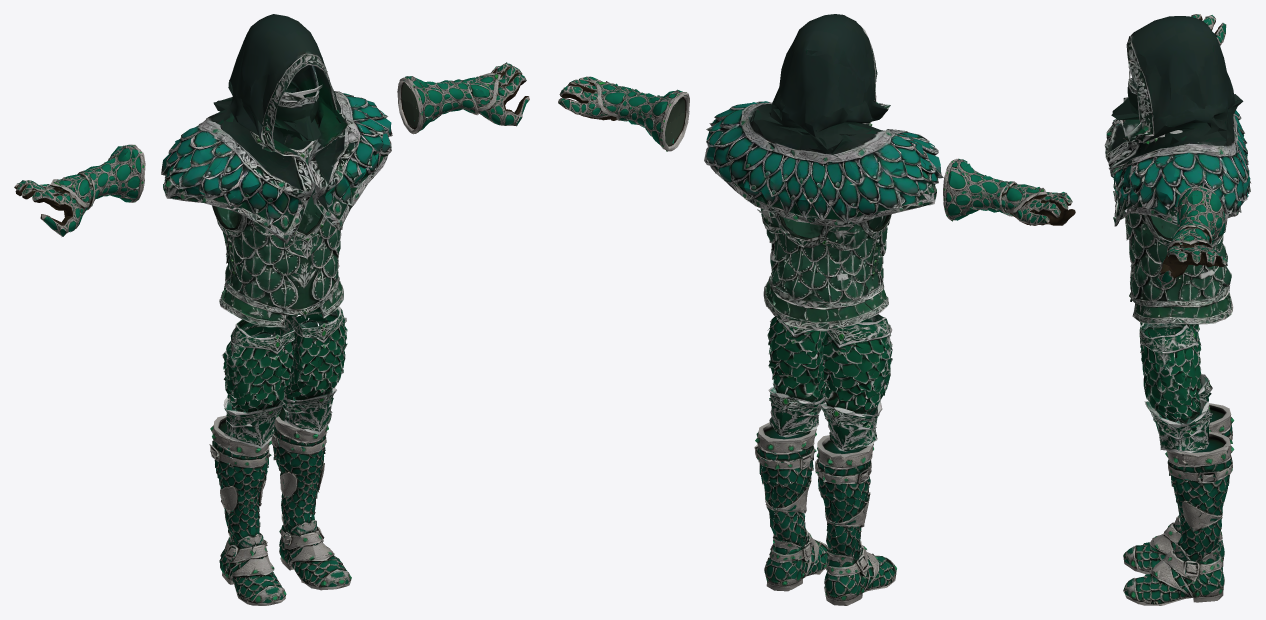
Rendered from ai_light_emerald.glb.
3 views of the same model, side by side, from view 1: azimuth 30°, elevation 25°; view 2: azimuth 150°, elevation 25°; view 3: azimuth 270°, elevation 25° (orthographic).
Parts seen in each view (by area): view 1: hood, feet, legs, chest, gloves; view 2: hood, feet, legs, chest, gloves; view 3: hood, feet, chest, legs, gloves.
Boxes of the visible parts, x1=… form: hood: x1=161, y1=14, x2=392, y2=244; feet: x1=209, y1=407, x2=351, y2=605; legs: x1=222, y1=306, x2=347, y2=448; chest: x1=212, y1=92, x2=362, y2=327; gloves: x1=14, y1=62, x2=529, y2=236; hood: x1=704, y1=14, x2=943, y2=226; feet: x1=754, y1=422, x2=896, y2=605; legs: x1=767, y1=313, x2=892, y2=451; chest: x1=732, y1=123, x2=891, y2=331; gloves: x1=558, y1=76, x2=1075, y2=225; hood: x1=1104, y1=16, x2=1251, y2=226; feet: x1=1123, y1=403, x2=1234, y2=605; chest: x1=1124, y1=130, x2=1233, y2=324; legs: x1=1139, y1=322, x2=1212, y2=452; gloves: x1=1157, y1=14, x2=1226, y2=286.
Bounding box in the file's own units: 1.8 × 1.93 × 0.4573.
Materials: 5 (5 with a texture image).
